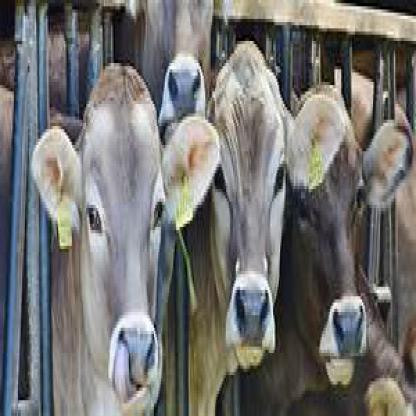cow: (32, 38, 212, 410), (291, 104, 404, 413), (220, 44, 294, 407)
